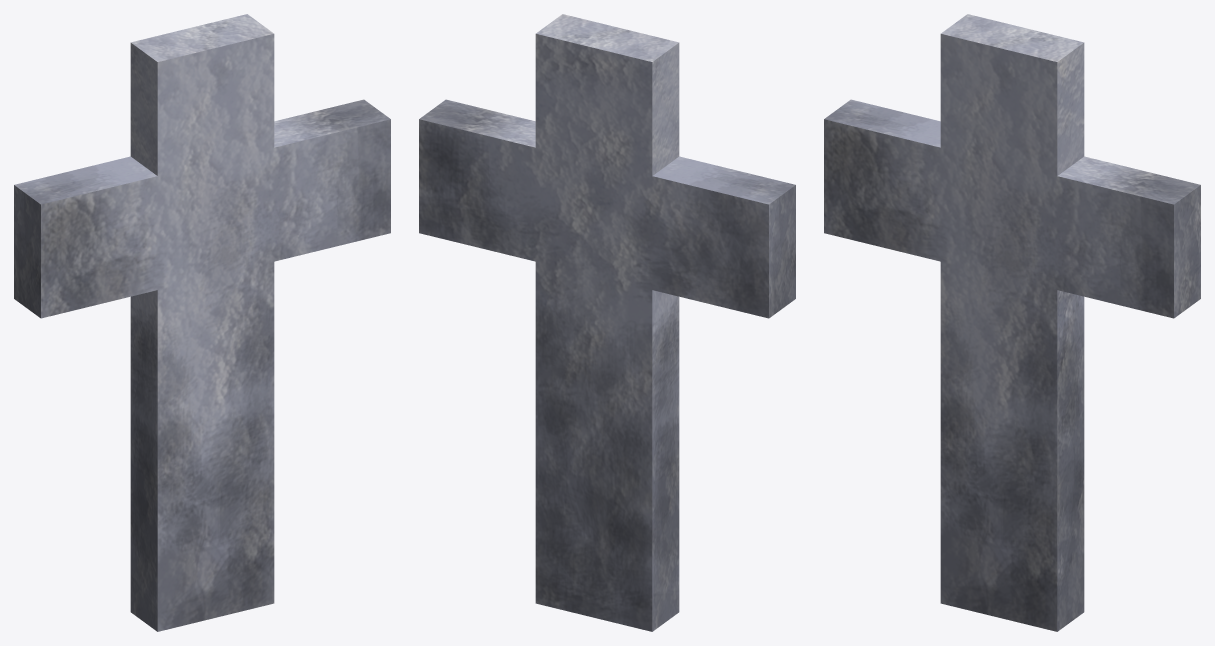
Rendered from grave2.FBX.
The picture shows the model from 3 angles, left to right: view 1: azimuth 30°, elevation 25°; view 2: azimuth 150°, elevation 25°; view 3: azimuth 330°, elevation 25°; orthographic projection.
Visible parts, largest first — view 1: grave2; view 2: grave2; view 3: grave2.
Part boxes in pixels (x1=…): grave2: x1=14, y1=14, x2=390, y2=631; grave2: x1=419, y1=14, x2=795, y2=631; grave2: x1=824, y1=14, x2=1200, y2=631.
Bounding box in the file's own units: 8.86 × 13.78 × 1.18.
Materials: 1 (1 with a texture image).
